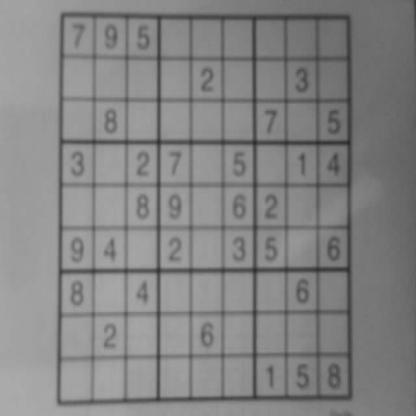sudoku: (54, 6, 359, 411)
